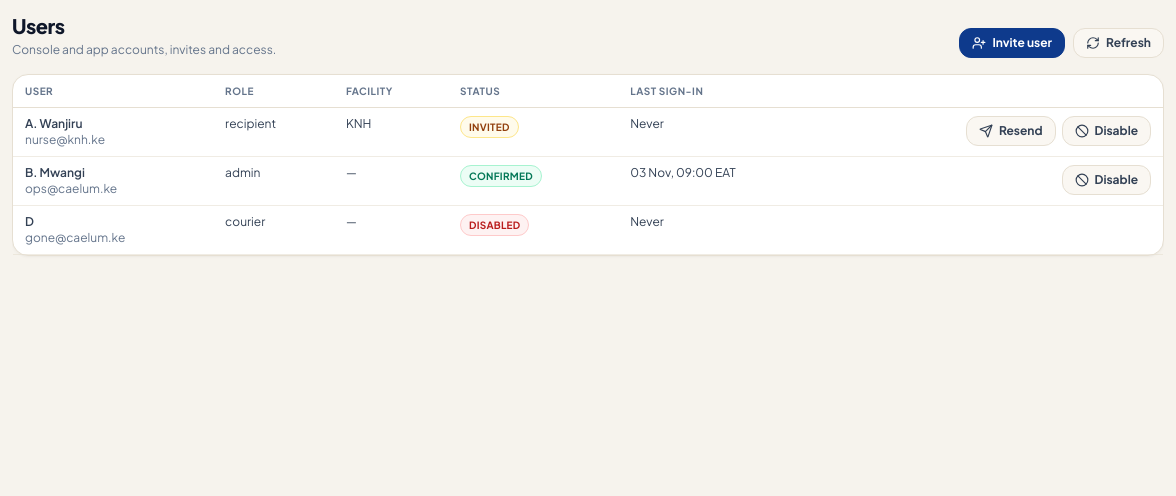
UsersPage › requires a facility for recipients and invites
Click the button "Invite user": (1012, 43) [960, 28, 1065, 58]
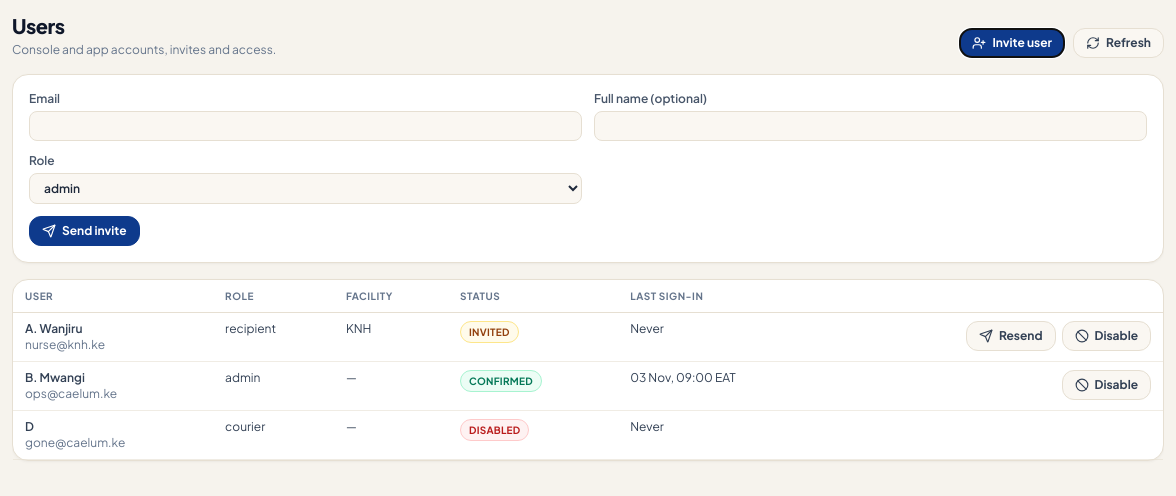
In the field labelled "Email": (306, 126) [29, 111, 582, 141], type "new@knh.ke"
In the field labelled "Full name (optional)": (870, 126) [594, 111, 1147, 141], type "C. Otieno"
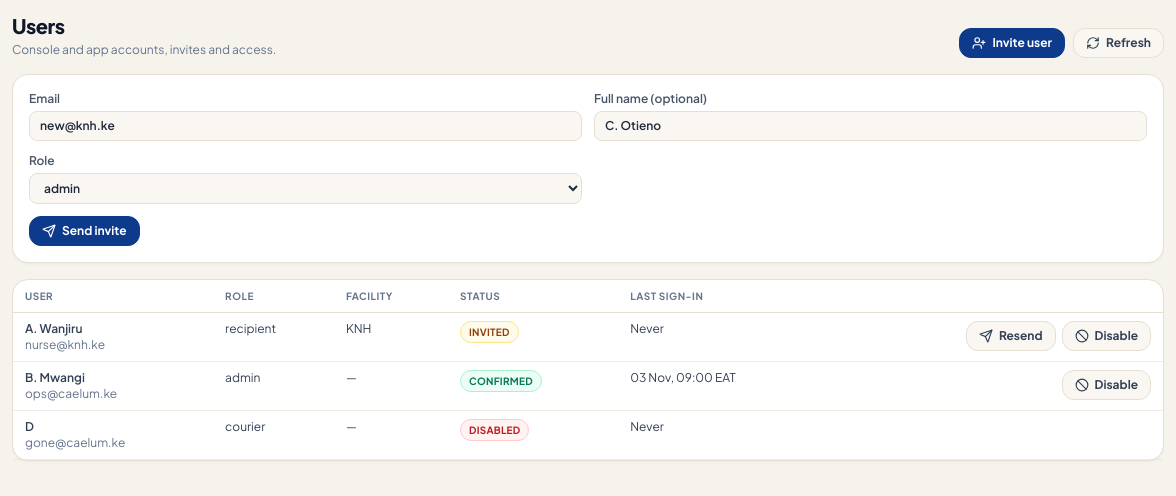
Select "recipient" in the dropdown labelled "Role": (306, 188) [29, 173, 582, 204]
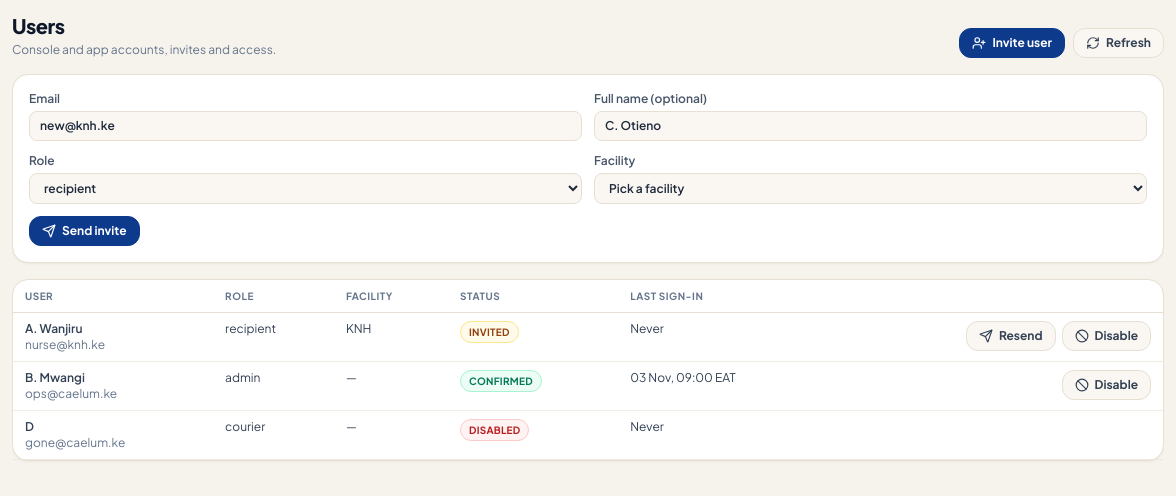
Click the button "Send invite": (84, 231) [29, 216, 140, 246]
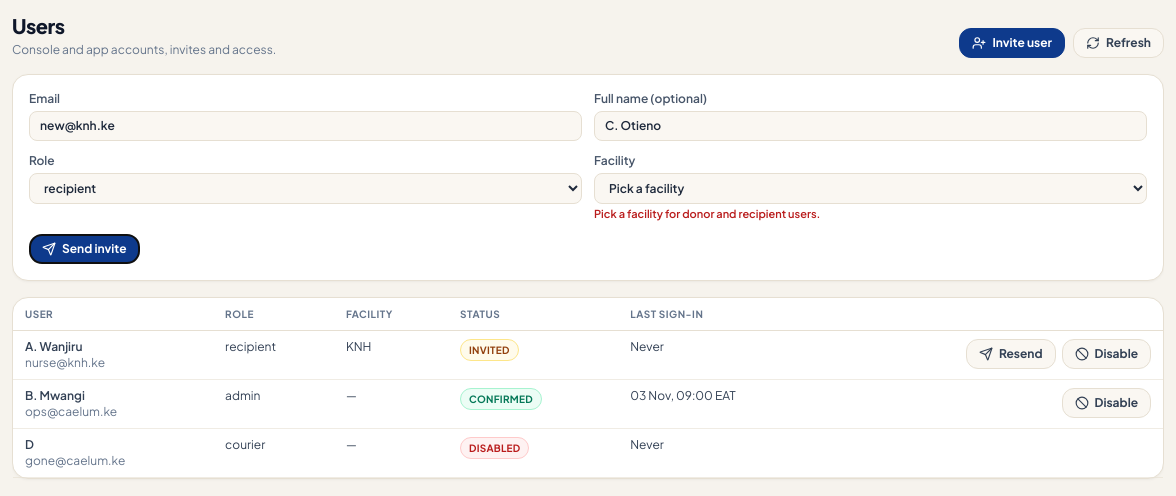
Result: the text "Pick a facility for donor and recipient users." is shown at [594, 207, 820, 220]
Select "KNH" in the dropdown labelled "Facility": (870, 188) [594, 173, 1147, 204]
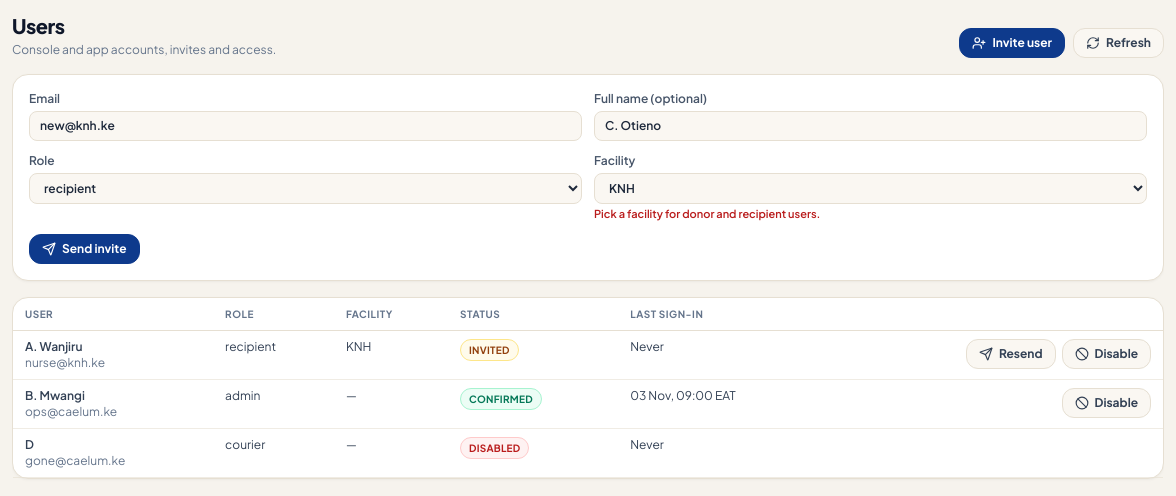
Click the button "Send invite": (84, 249) [29, 234, 140, 264]
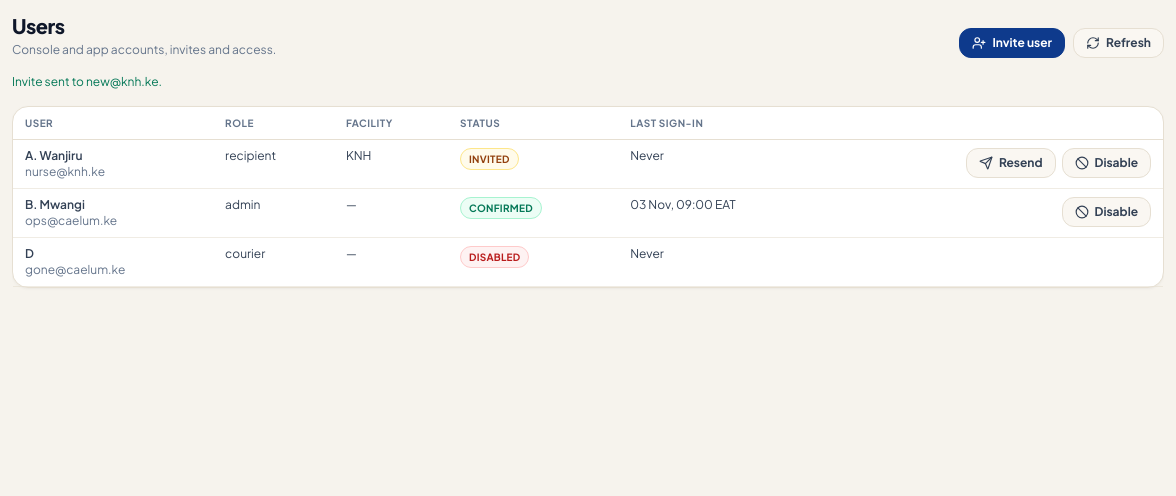
Result: the text "Invite sent to new@knh.ke." is shown at [12, 74, 162, 89]
